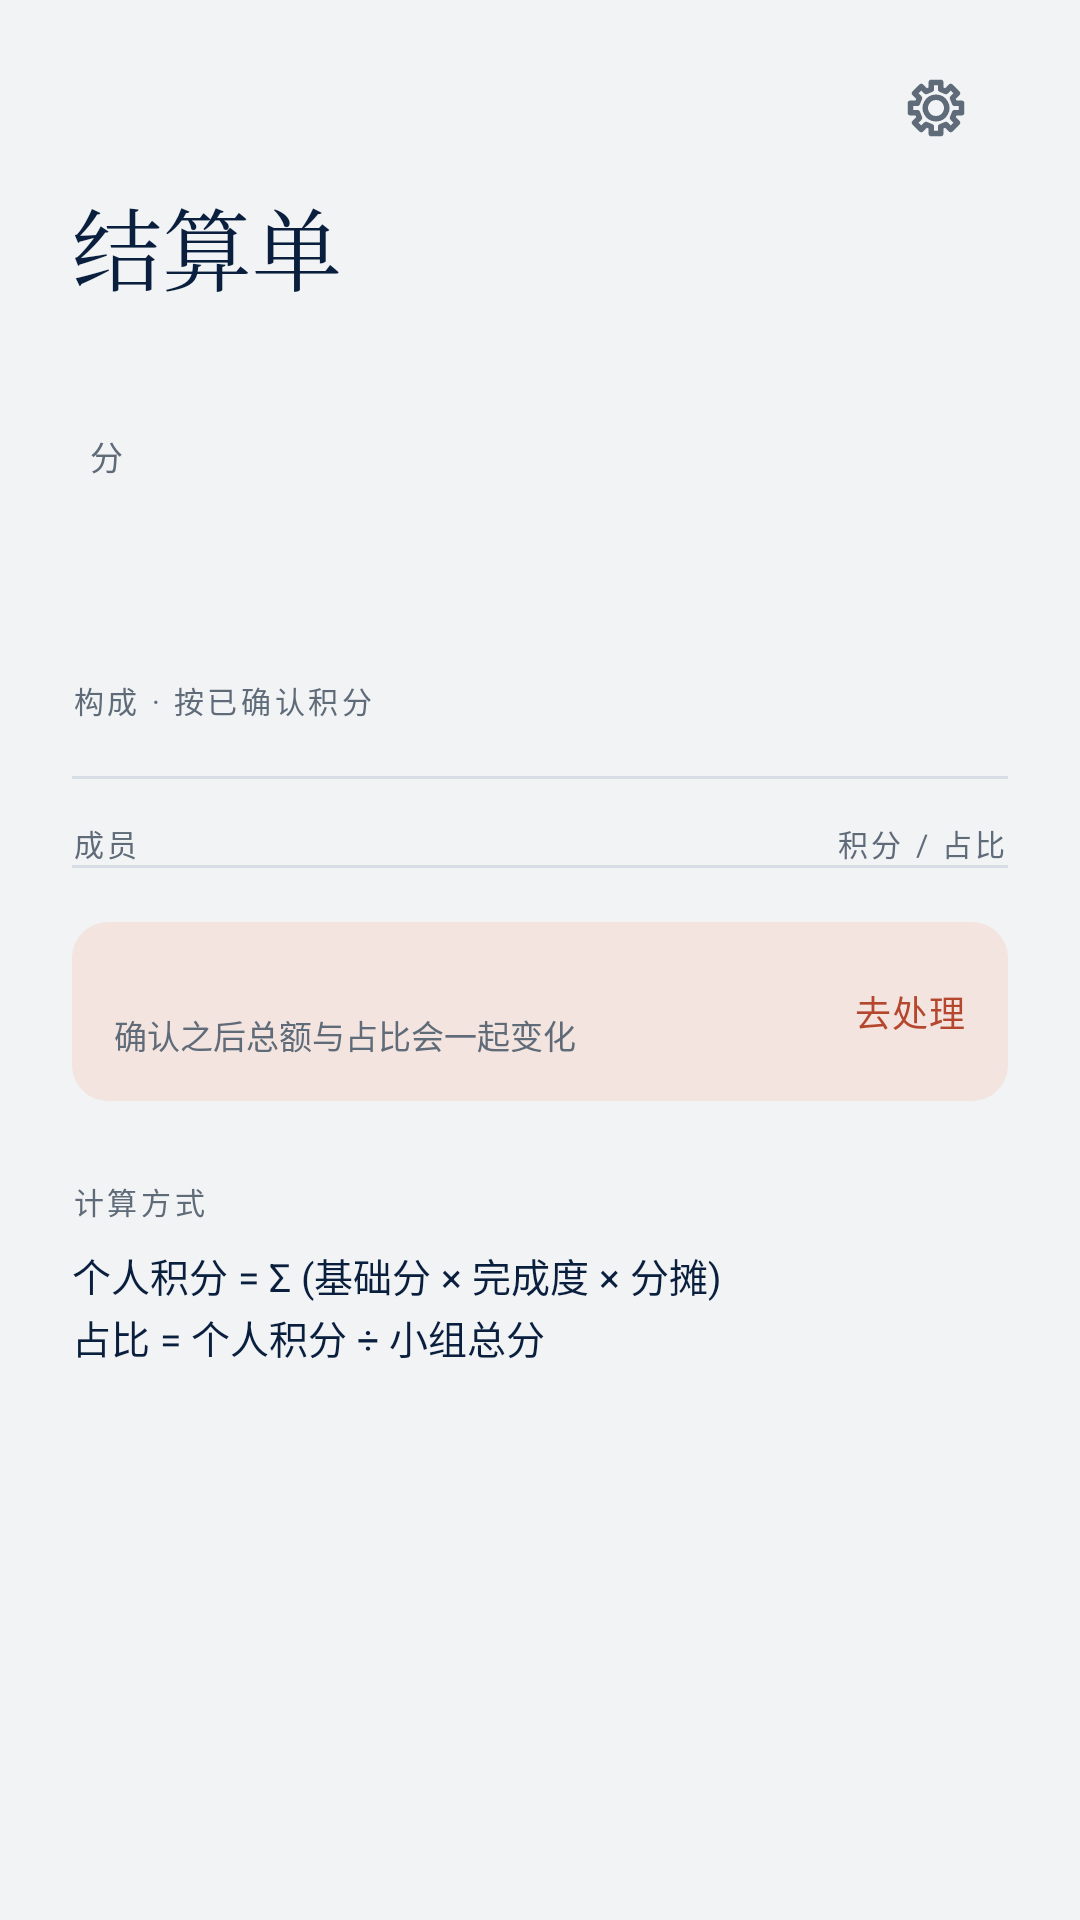

Icons on this 1080w x 1920h Android screen, each with its box as (x1, y1, x2, y2):
设置: (907, 79, 965, 137)
